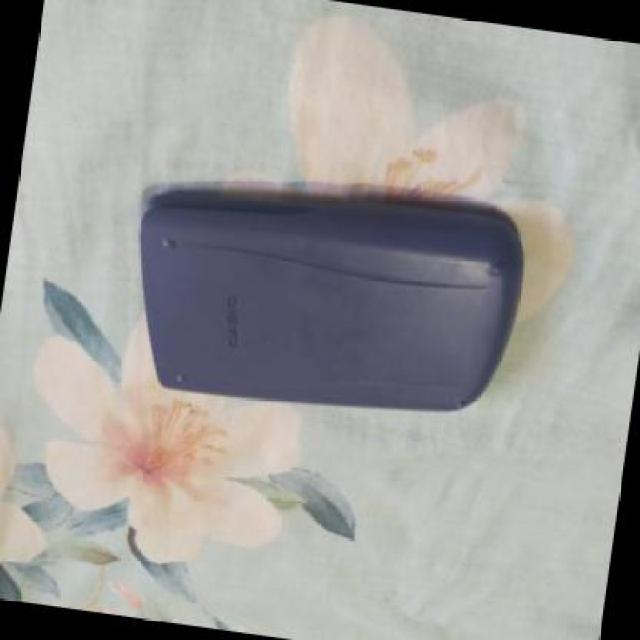Calculator: (109, 144, 536, 445)
